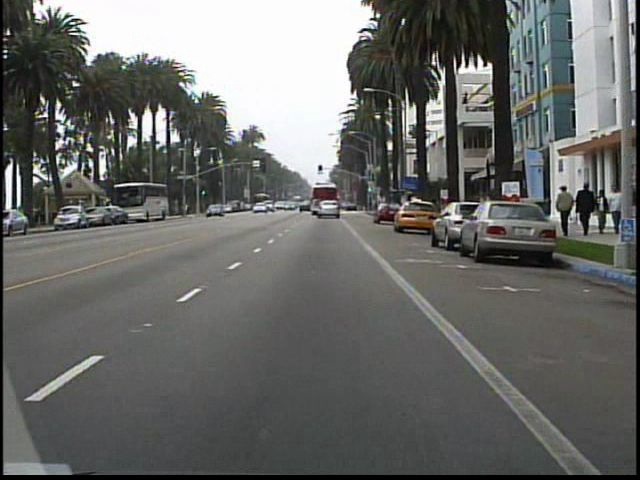person: (575, 176, 596, 239), (553, 183, 575, 237), (606, 183, 624, 233), (594, 186, 610, 238)
